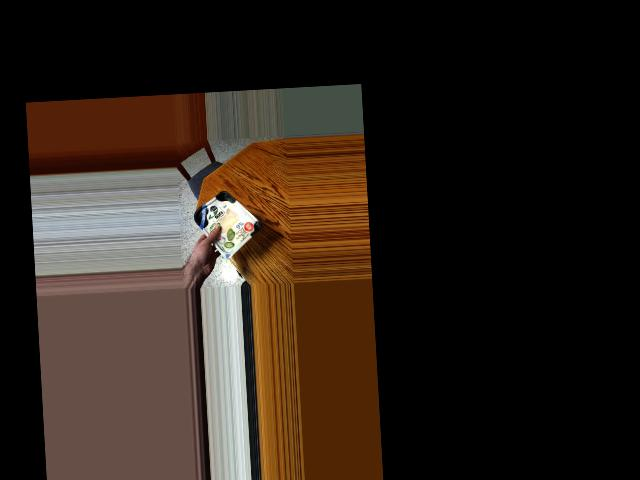cheese: (197, 188, 255, 249)
